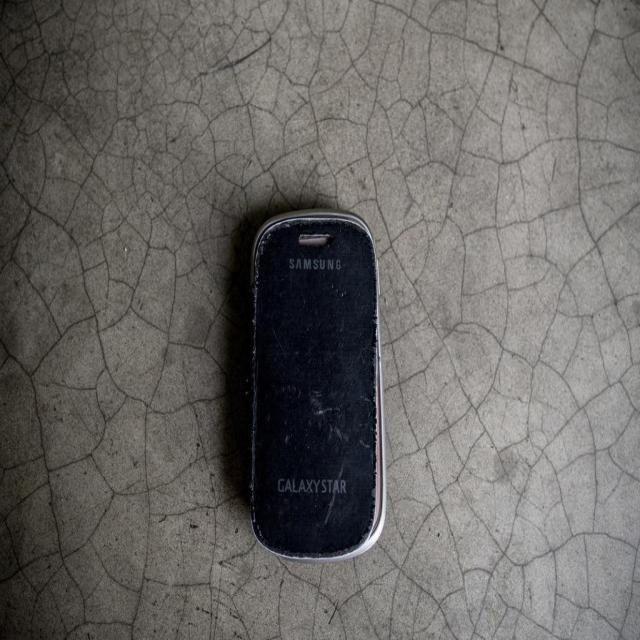Phone: (245, 209, 386, 559)
